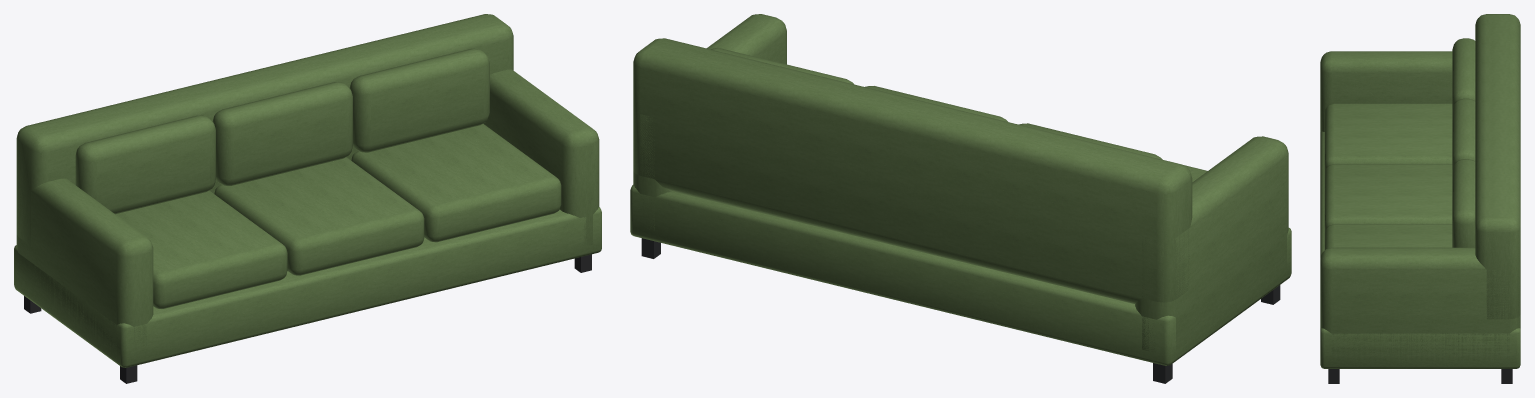
The model's file is lounge.modular-sofa-straight.glb.
3 views of the same model, side by side, from view 1: azimuth 30°, elevation 25°; view 2: azimuth 150°, elevation 25°; view 3: azimuth 270°, elevation 25° (orthographic). The views are drawn at different scales.
Visible parts, largest first — view 1: lounge.modular-sofa-straight.001; view 2: lounge.modular-sofa-straight.001; view 3: lounge.modular-sofa-straight.001.
Part boxes in pixels (bbox=[...]): lounge.modular-sofa-straight.001: bbox=[14, 14, 601, 383]; lounge.modular-sofa-straight.001: bbox=[630, 14, 1291, 383]; lounge.modular-sofa-straight.001: bbox=[1320, 14, 1520, 383].
Size of the model in its own units: 2.2 by 0.8 by 0.88.
Materials: 2 (1 with a texture image).
